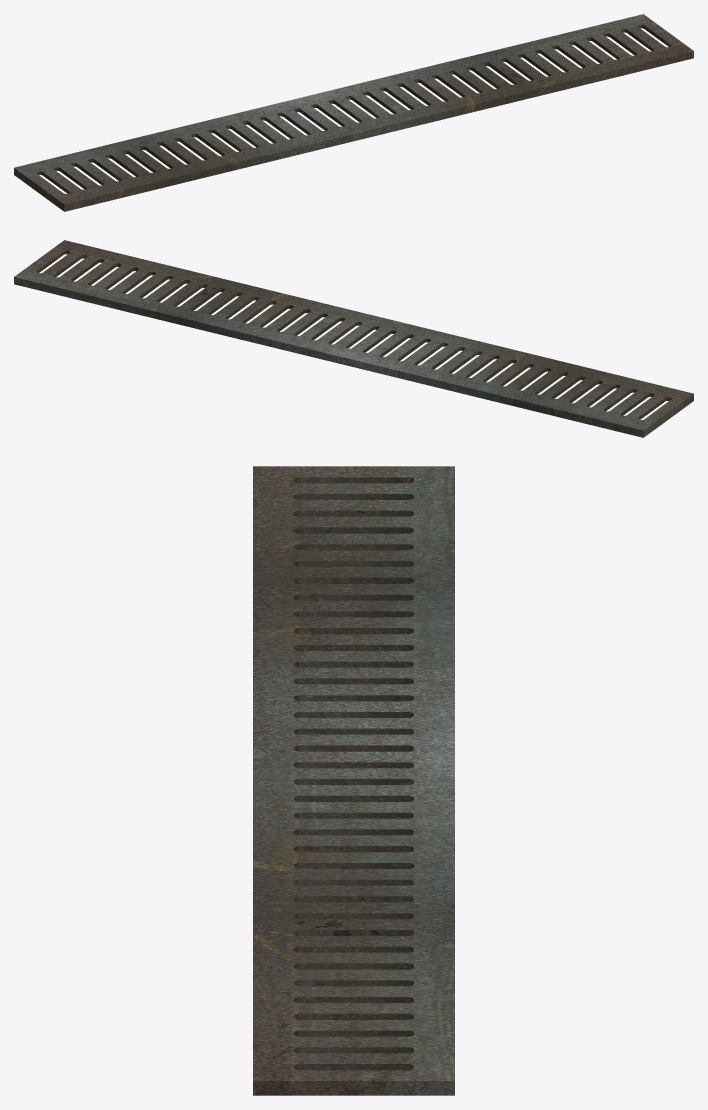
The model's file is Drainage grate_2.fbx.
3 views of the same model, one above another, from view 1: azimuth 30°, elevation 25°; view 2: azimuth 150°, elevation 25°; view 3: azimuth 270°, elevation 25° (orthographic). The views are drawn at different scales.
Parts seen in each view (by area): view 1: Drainage_grate_2; view 2: Drainage_grate_2; view 3: Drainage_grate_2.
Boxes of the visible parts, <box> form: Drainage_grate_2: <box>14,14,693,211</box>; Drainage_grate_2: <box>14,240,693,437</box>; Drainage_grate_2: <box>253,466,454,1095</box>.
Size of the model in its own units: 180 by 2 by 25.
Materials: 1 (1 with a texture image).
